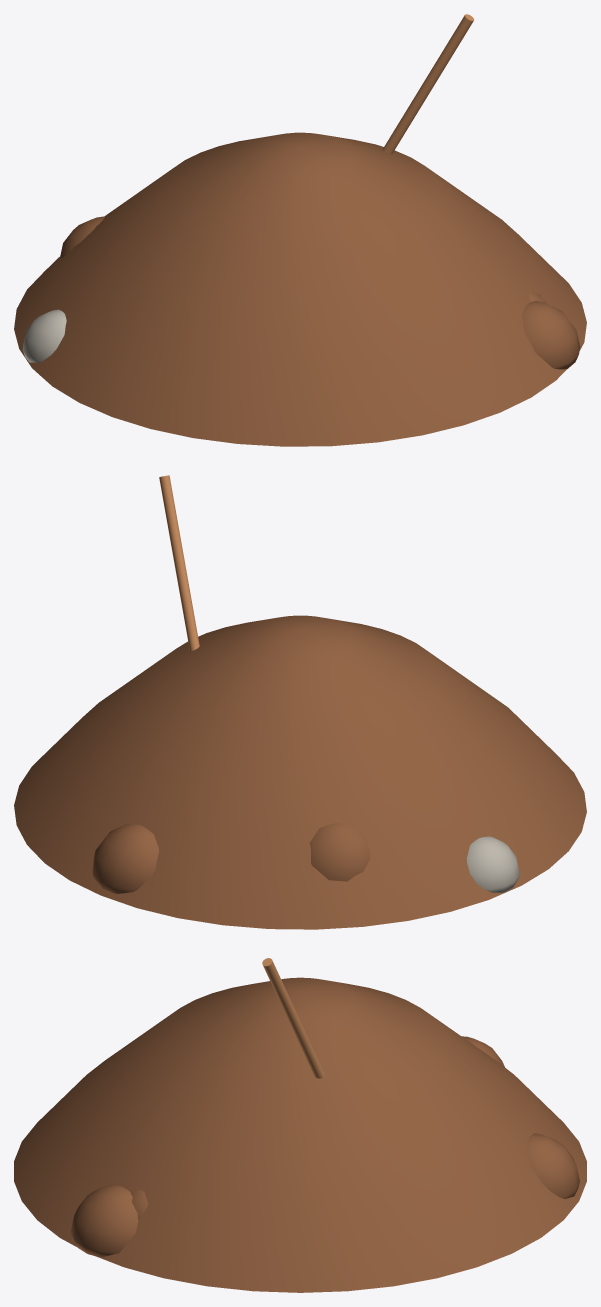
Rendered from dirt_pile.glb.
3 renders of one model, top to bottom at view 1: azimuth 30°, elevation 25°; view 2: azimuth 150°, elevation 25°; view 3: azimuth 270°, elevation 25°, orthographic.
Visible parts, largest first — view 1: dirt_pile; view 2: dirt_pile; view 3: dirt_pile.
Part boxes in pixels (x1,y1,x2,y2): dirt_pile: [14, 14, 586, 446]; dirt_pile: [14, 475, 586, 929]; dirt_pile: [14, 958, 586, 1292].
Bounding box in the file's own units: 3.2 × 1.76 × 3.19.
1 material, 1 textured.
